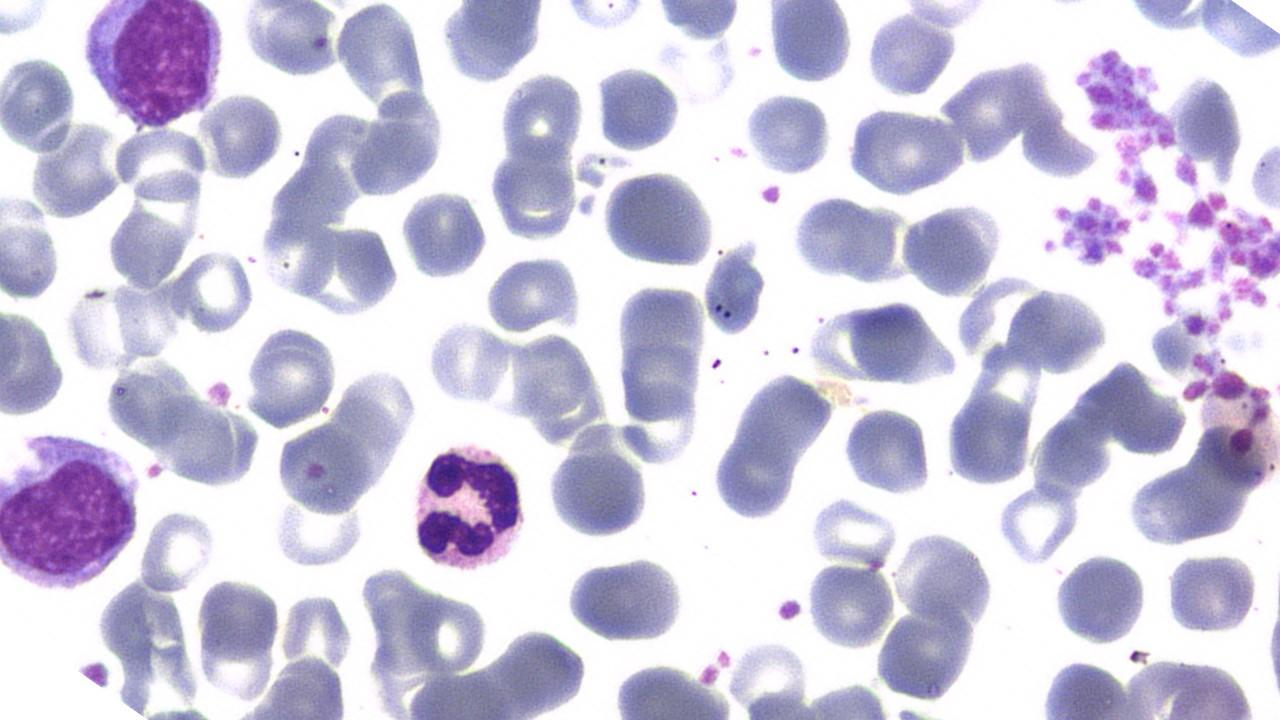Platelets: (75, 656, 115, 692), (773, 594, 806, 624), (654, 41, 687, 68), (756, 180, 784, 206), (726, 142, 753, 163), (894, 706, 929, 720)
RBC: (706, 366, 838, 525), (544, 424, 654, 543), (601, 166, 718, 270), (562, 553, 688, 646), (509, 329, 609, 444), (242, 325, 348, 431), (272, 419, 376, 519), (902, 199, 1007, 298), (887, 530, 998, 623), (846, 299, 960, 388), (242, 325, 339, 427), (1051, 549, 1149, 649), (333, 0, 425, 105), (850, 109, 961, 196), (438, 0, 549, 86), (944, 386, 1033, 491), (490, 145, 581, 245), (498, 67, 584, 170), (400, 188, 490, 284), (864, 8, 958, 99), (841, 402, 931, 495), (200, 87, 286, 184), (0, 302, 69, 422), (594, 63, 684, 155), (1162, 550, 1258, 636), (240, 0, 342, 80), (804, 560, 894, 650), (270, 488, 368, 570), (594, 64, 683, 154), (744, 90, 834, 178), (618, 333, 702, 426), (113, 122, 209, 203), (195, 577, 281, 666), (607, 660, 741, 717), (1, 54, 79, 151), (406, 586, 488, 678), (767, 1, 855, 86), (105, 201, 186, 293), (260, 209, 341, 300), (425, 320, 508, 408), (994, 482, 1080, 566), (175, 246, 255, 336), (65, 282, 142, 375), (618, 384, 704, 466), (792, 192, 870, 282), (488, 257, 582, 331), (726, 636, 812, 716), (139, 507, 216, 595), (808, 496, 898, 568), (702, 240, 767, 339), (0, 196, 61, 300), (840, 203, 908, 289), (1198, 0, 1280, 61), (650, 1, 746, 40), (556, 1, 654, 34), (896, 0, 994, 29), (1249, 132, 1279, 218), (0, 2, 52, 39)
WBC: (0, 429, 146, 596), (79, 0, 229, 130), (408, 436, 532, 579)
